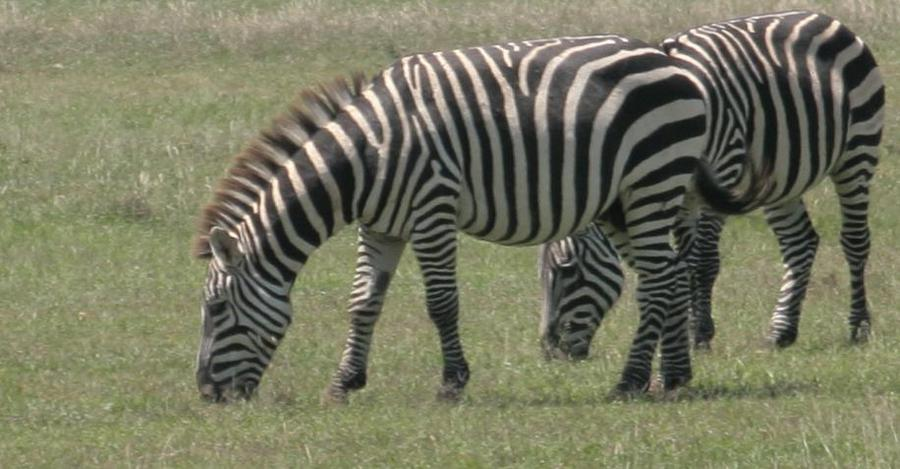zebra_plains: (280, 35, 787, 390)
